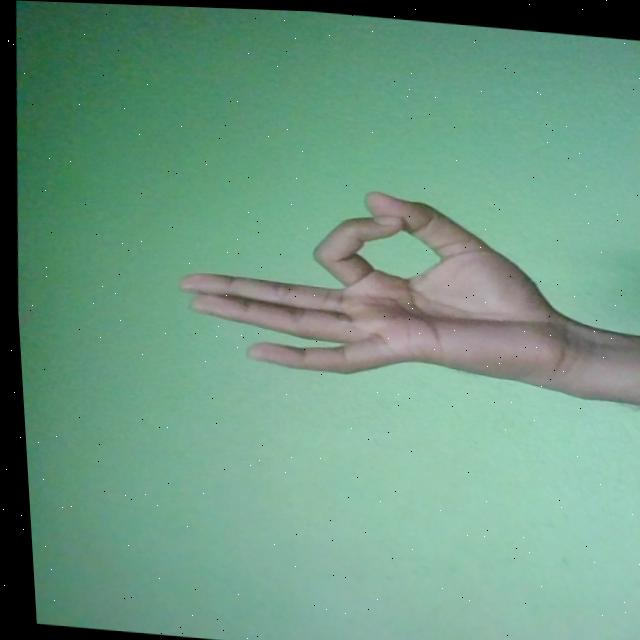Ok: (165, 172, 578, 391)
